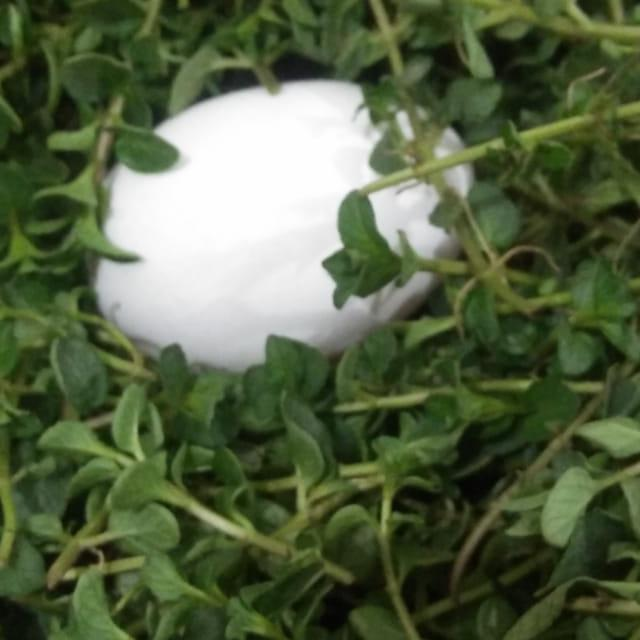egg: (88, 73, 476, 376)
